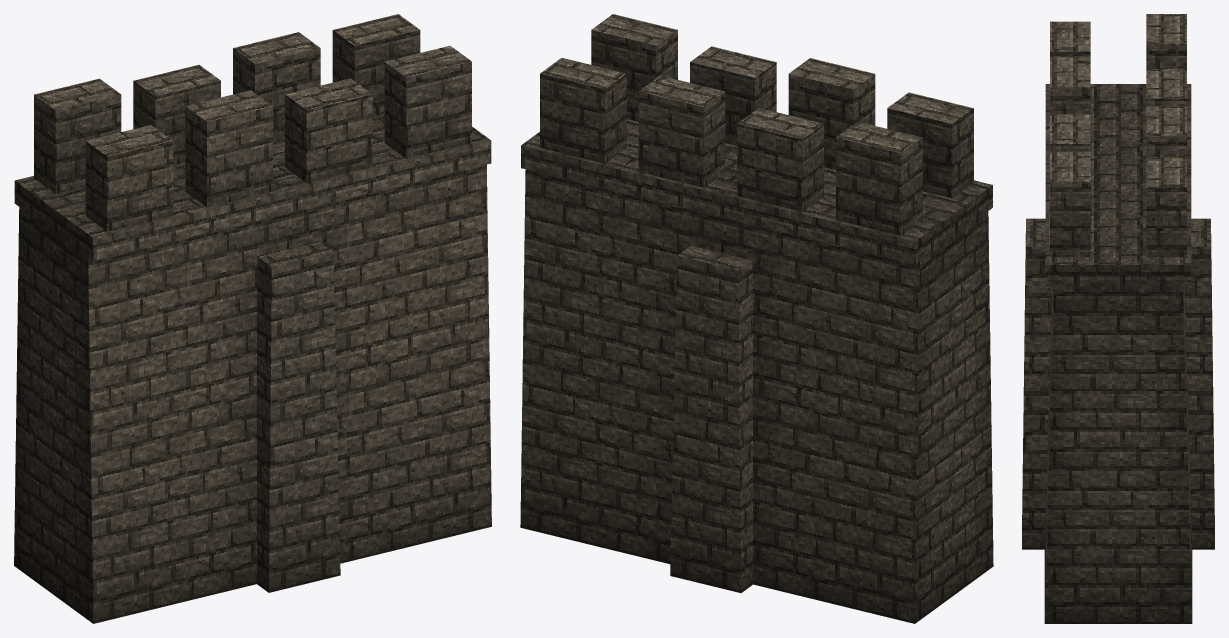
File: curtain_wall.glb
3 views of the same model, side by side, from view 1: azimuth 30°, elevation 25°; view 2: azimuth 150°, elevation 25°; view 3: azimuth 270°, elevation 25° (orthographic). The views are drawn at different scales.
Visible parts, largest first — view 1: curtain_wall; view 2: curtain_wall; view 3: curtain_wall.
Boxes of the visible parts, x1,y1,x2,y2 form: curtain_wall: [14, 14, 491, 623]; curtain_wall: [520, 14, 993, 623]; curtain_wall: [1022, 14, 1214, 623].
Size of the model in its own units: 4 by 4.52 by 1.8.
1 material, 1 textured.
